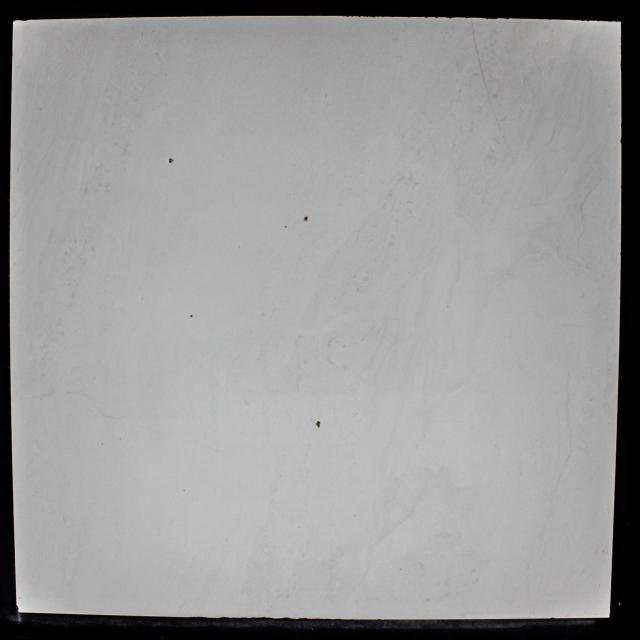edge-chipping: (16, 604, 19, 613)
hole: (316, 420, 322, 428), (303, 216, 309, 222), (168, 158, 174, 163), (190, 314, 193, 318), (284, 226, 288, 228)
line: (487, 93, 499, 127), (478, 57, 487, 91), (471, 19, 479, 56)
